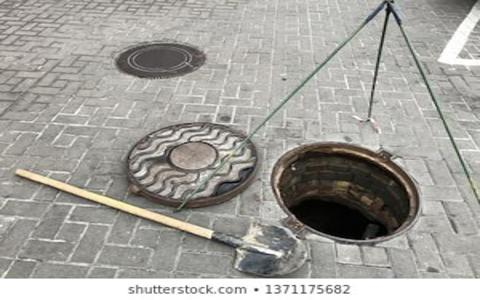open manhole: (266, 132, 425, 257)
